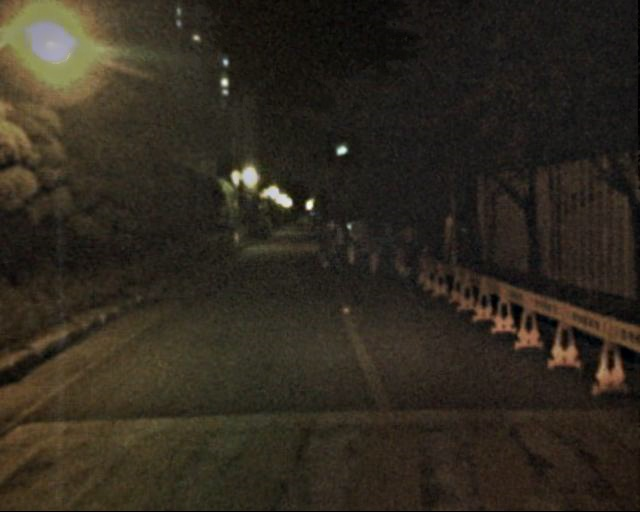person: (395, 227, 422, 293), (348, 215, 370, 269), (379, 220, 401, 273), (313, 221, 333, 270), (363, 228, 382, 275), (331, 222, 349, 266)
